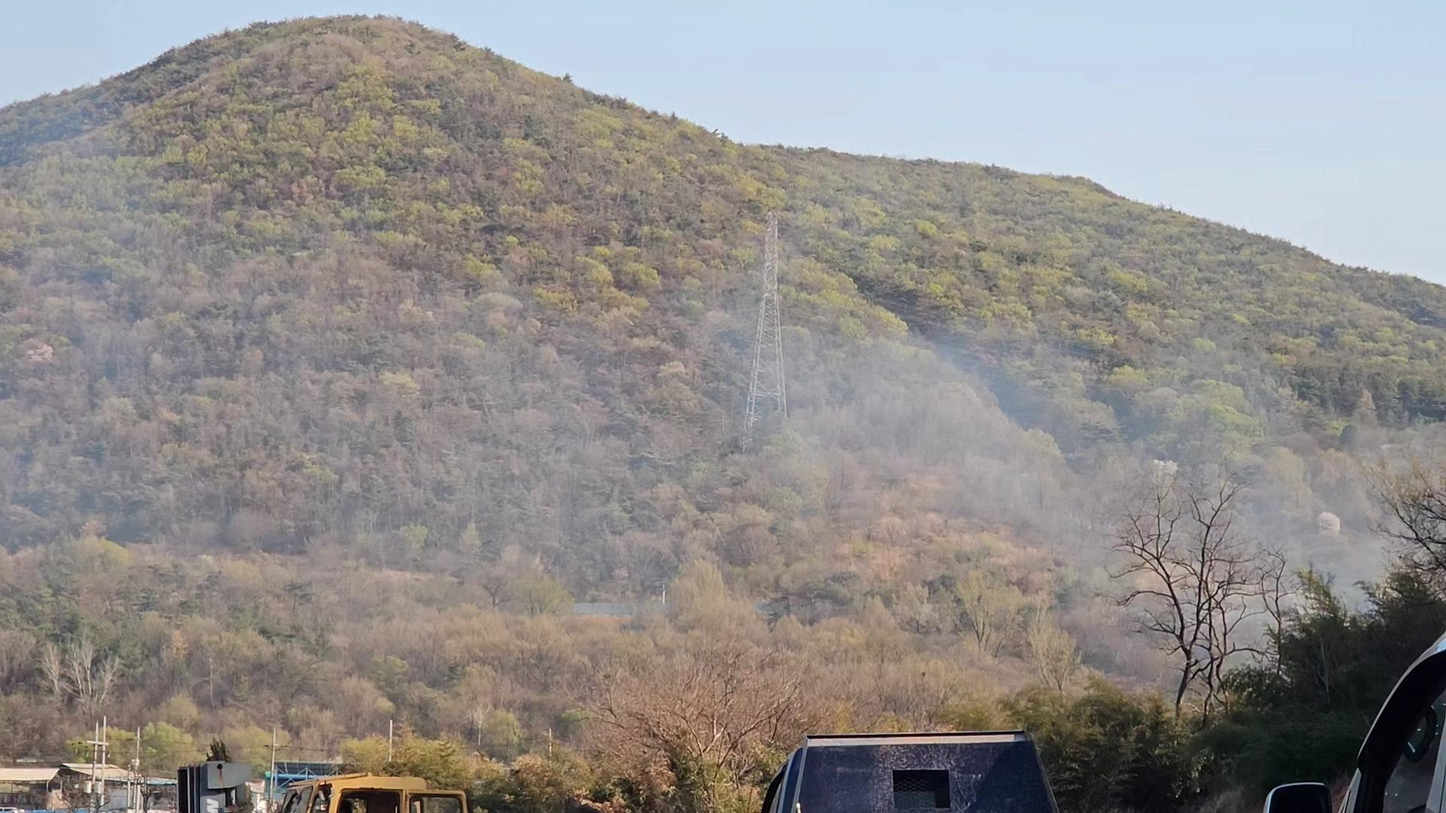smoke: (721, 307, 1436, 702)
